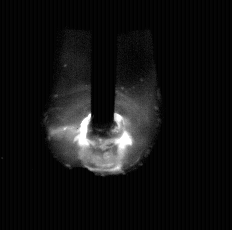arame: (91, 0, 117, 139)
poca: (45, 0, 158, 230)
